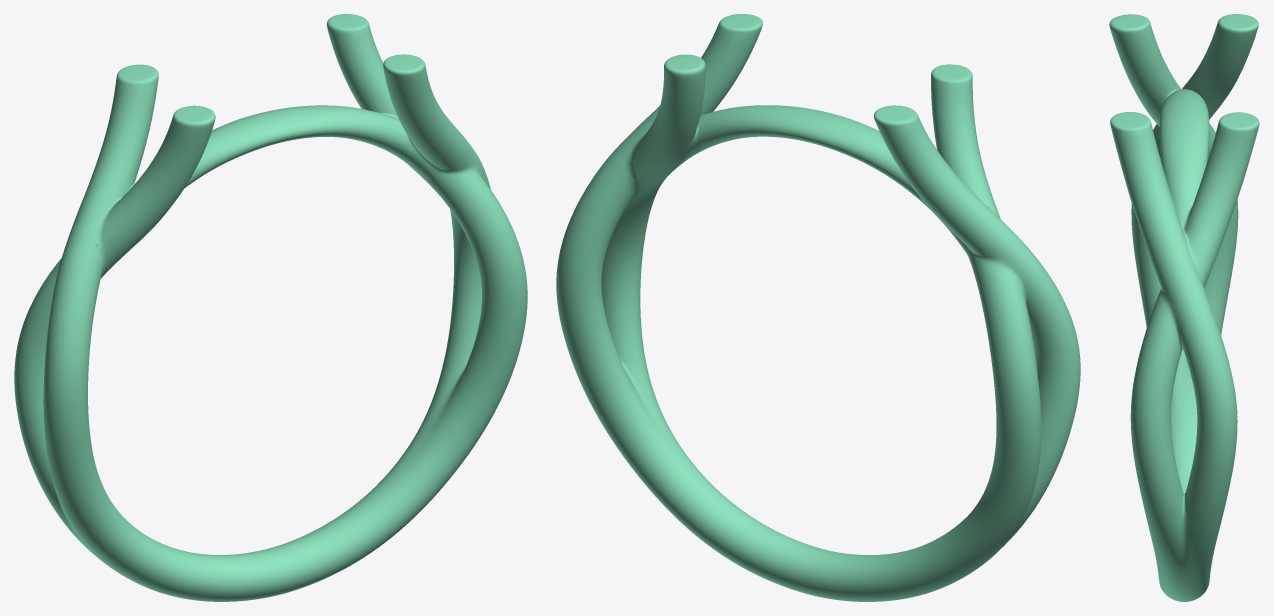
The picture shows the model from 3 angles, left to right: view 1: azimuth 30°, elevation 25°; view 2: azimuth 150°, elevation 25°; view 3: azimuth 270°, elevation 25°; orthographic projection. The views are drawn at different scales.
Visible parts, largest first — view 1: Metal02; view 2: Metal02; view 3: Metal02.
Part boxes in pixels (<box>): Metal02: <box>14,14,527,601</box>; Metal02: <box>556,14,1080,601</box>; Metal02: <box>1109,14,1259,601</box>.
Bounding box in the file's own units: 21.29 × 22.11 × 5.93.
